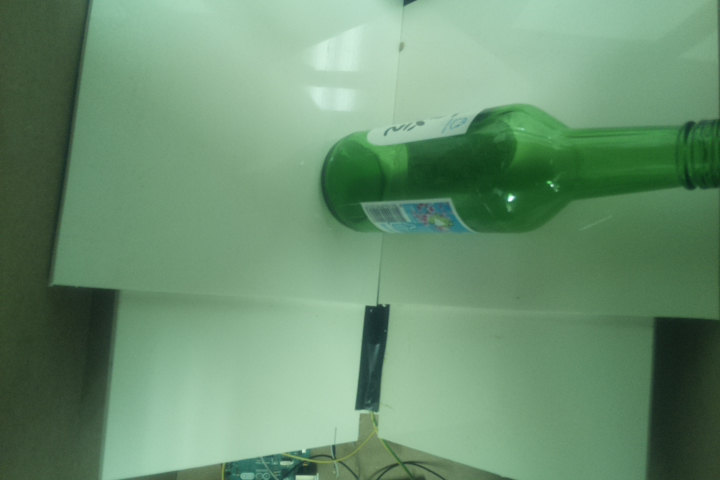soju: (319, 101, 720, 237)
